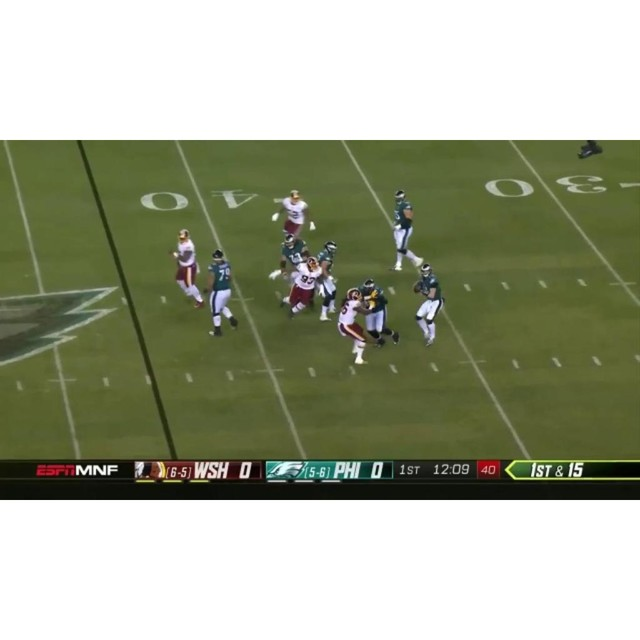american-football-player: (203, 248, 238, 337), (388, 189, 423, 273), (359, 279, 401, 347), (170, 229, 205, 308), (412, 262, 445, 345), (336, 288, 370, 366), (283, 257, 323, 322), (269, 232, 309, 286), (272, 189, 310, 242), (314, 241, 339, 320)
